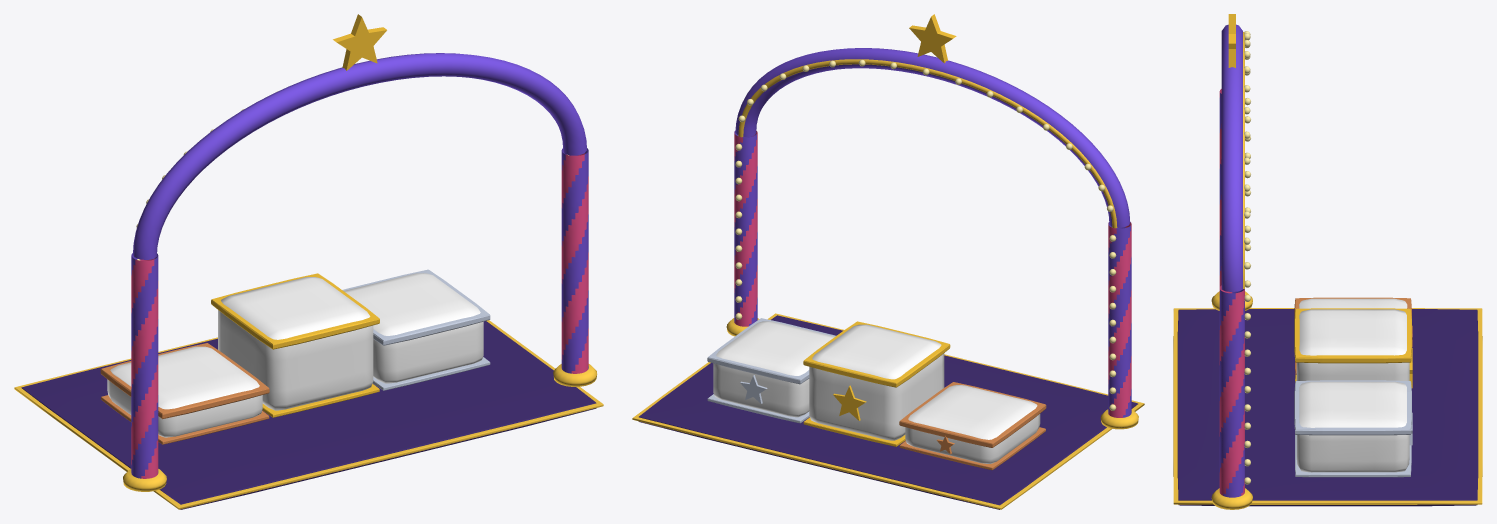
File: LobbyPodium.obj
The picture shows the model from 3 angles, left to right: view 1: azimuth 30°, elevation 25°; view 2: azimuth 150°, elevation 25°; view 3: azimuth 270°, elevation 25°; orthographic projection. The views are drawn at different scales.
Parts seen in each view (by area): view 1: Base, Body, Frame, Stripes, Trim, Gold, Bronze, Silver; view 2: Body, Base, Frame, Trim, Stripes, Gold, Bronze, Silver, Bulbs; view 3: Base, Body, Frame, Trim, Stripes, Silver, Gold, Bulbs, Bronze.
Boxes of the visible parts, x1,y1,x2,y2 form: Base: [21, 321, 596, 509]; Body: [107, 273, 483, 437]; Frame: [131, 53, 588, 478]; Stripes: [131, 153, 588, 478]; Trim: [14, 320, 603, 509]; Gold: [211, 14, 386, 417]; Bronze: [100, 343, 269, 444]; Silver: [342, 269, 490, 390]; Body: [713, 321, 1040, 463]; Base: [638, 315, 1137, 509]; Frame: [734, 48, 1131, 417]; Trim: [632, 59, 1144, 509]; Stripes: [734, 131, 1131, 417]; Gold: [803, 14, 956, 446]; Bronze: [899, 382, 1046, 470]; Silver: [707, 318, 835, 423]; Bulbs: [735, 59, 1116, 410]; Base: [1177, 309, 1478, 506]; Body: [1296, 298, 1409, 472]; Frame: [1219, 24, 1244, 497]; Trim: [1173, 32, 1482, 509]; Stripes: [1219, 89, 1244, 495]; Silver: [1294, 380, 1412, 477]; Gold: [1228, 14, 1412, 388]; Bulbs: [1244, 31, 1250, 484]; Bronze: [1294, 297, 1412, 374].
Size of the model in its own units: 40.3 by 34.9 by 24.57.
